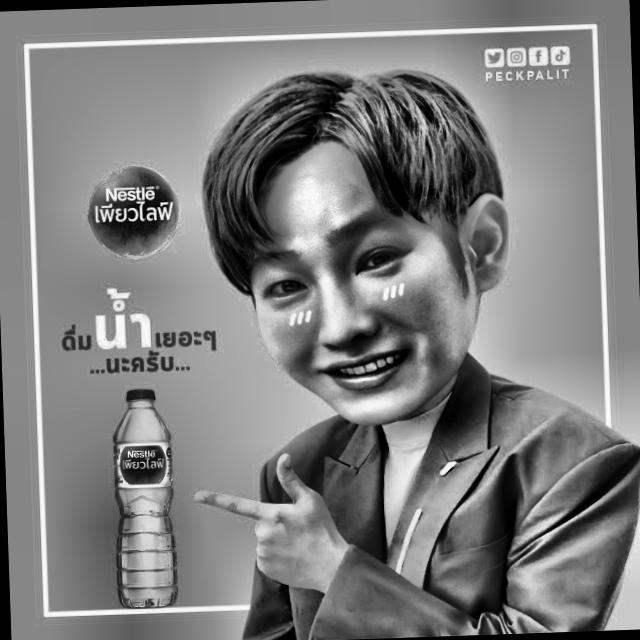waterbottle: (112, 386, 180, 612)
